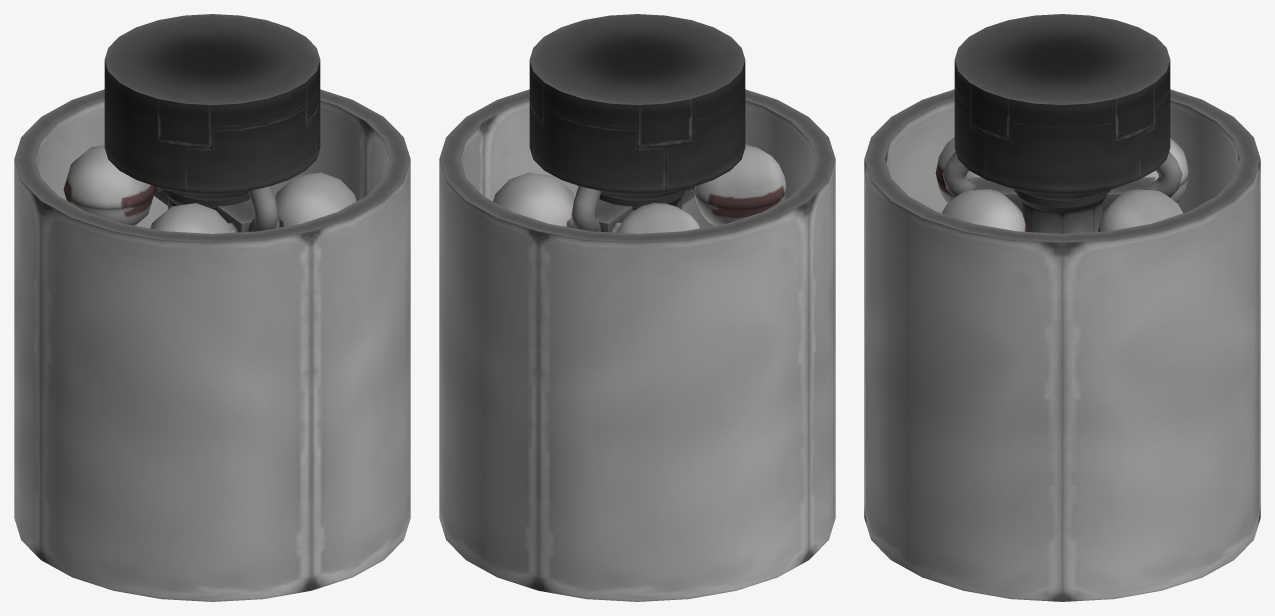
The model's file is bluedog_ableEngine.dae.
The picture shows the model from 3 angles, left to right: view 1: azimuth 30°, elevation 25°; view 2: azimuth 150°, elevation 25°; view 3: azimuth 270°, elevation 25°; orthographic projection.
Visible parts, largest first — view 1: fairing, AbleEngine, HeliumTank2, HeliumTank2_ncl1_1, HeliumTank1_ncl1_1, HeliumOut_ncl1_1, HeliumMount_ncl1_1; view 2: fairing, AbleEngine, HeliumTank1_ncl1_1, HeliumTank1, HeliumTank2, HeliumOut, HeliumMount; view 3: fairing, AbleEngine, HeliumTank2_ncl1_1, HeliumTank1, HeliumOut, HeliumOut_ncl1_1, HeliumTank1_ncl1_1, HeliumTank2, HeliumMount, HeliumMount_ncl1_1.
Boxes of the visible parts, box(x1,y1,x2,y2) form: fairing: box(14, 89, 410, 601); AbleEngine: box(104, 14, 320, 210); HeliumTank2: box(63, 145, 155, 225); HeliumTank2_ncl1_1: box(275, 172, 356, 227); HeliumTank1_ncl1_1: box(150, 203, 231, 233); HeliumOut_ncl1_1: box(248, 186, 278, 231); HeliumMount_ncl1_1: box(216, 199, 275, 232); fairing: box(439, 89, 835, 601); AbleEngine: box(529, 14, 745, 210); HeliumTank1_ncl1_1: box(694, 144, 786, 225); HeliumTank1: box(493, 172, 574, 227); HeliumTank2: box(617, 203, 699, 233); HeliumOut: box(571, 186, 601, 231); HeliumMount: box(574, 199, 633, 232); fairing: box(864, 89, 1260, 601); AbleEngine: box(954, 14, 1170, 233); HeliumTank2_ncl1_1: box(942, 189, 1026, 231); HeliumTank1: box(1098, 189, 1182, 231); HeliumOut: box(1149, 151, 1182, 197); HeliumOut_ncl1_1: box(942, 151, 975, 197); HeliumTank1_ncl1_1: box(935, 137, 980, 202); HeliumTank2: box(1144, 138, 1189, 203); HeliumMount: box(1102, 177, 1155, 212); HeliumMount_ncl1_1: box(969, 177, 1022, 212).
Bounding box in the file's own units: 0.6208 × 0.7928 × 0.6208.
